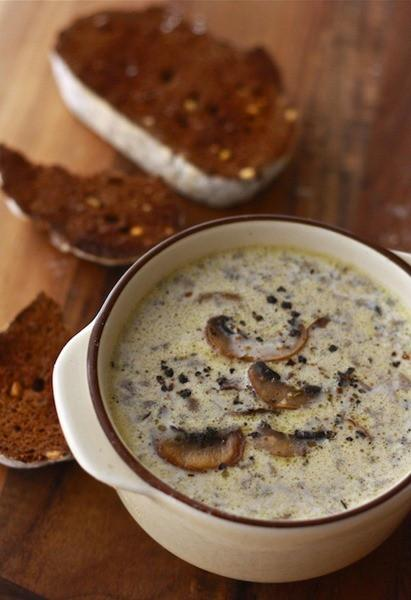CoconutChutney: (106, 238, 411, 518)
